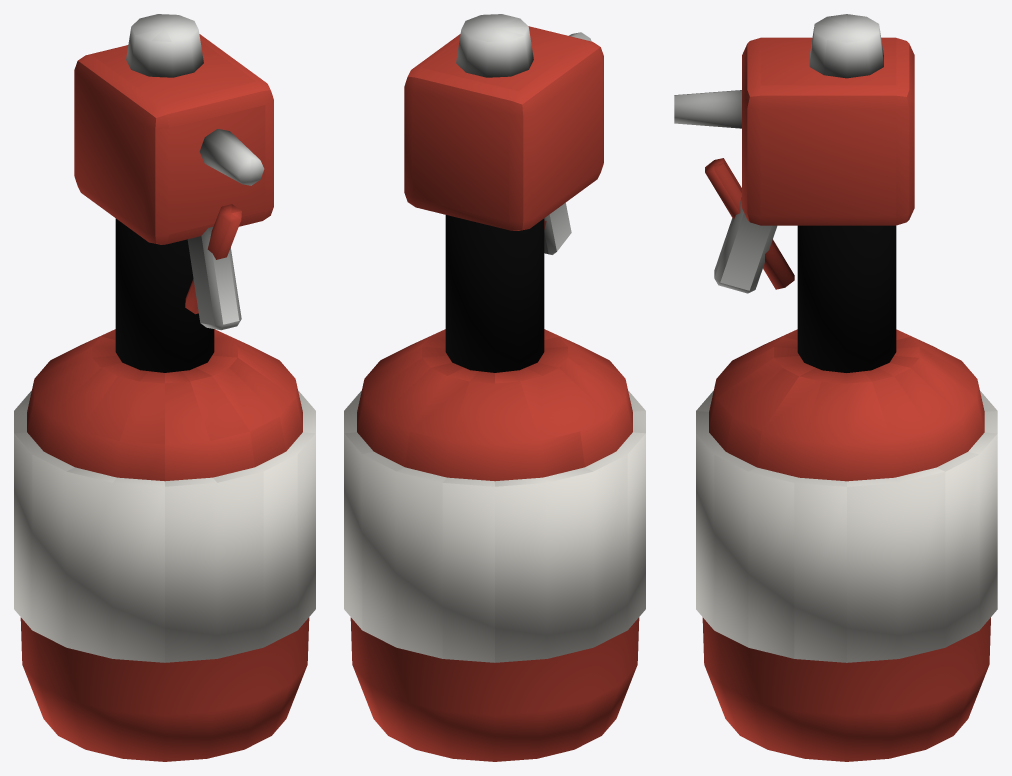
The model's file is spray_bottle_empty.glb.
3 views of the same model, side by side, from view 1: azimuth 30°, elevation 25°; view 2: azimuth 150°, elevation 25°; view 3: azimuth 270°, elevation 25° (orthographic).
Visible parts, largest first — view 1: body, label, head, neck, turret, trigger, nozzle, guard; view 2: body, label, head, neck, turret, trigger; view 3: body, label, head, neck, turret, trigger, nozzle, guard.
Part boxes in pixels (x1,y1,x2,y2): body: (20, 329, 309, 761); label: (14, 390, 315, 662); head: (74, 34, 273, 244); neck: (115, 218, 214, 372); turret: (126, 14, 203, 77); trigger: (187, 227, 241, 330); nozzle: (199, 129, 264, 185); guard: (185, 204, 241, 314); body: (350, 329, 639, 761); label: (344, 390, 645, 662); head: (404, 26, 603, 230); neck: (445, 215, 544, 372); turret: (456, 14, 533, 77); trigger: (544, 202, 571, 254); body: (702, 329, 990, 761); label: (696, 391, 997, 662); head: (742, 37, 914, 225); neck: (797, 225, 896, 372); turret: (809, 14, 883, 78); trigger: (714, 197, 777, 293); nozzle: (674, 90, 741, 128); guard: (705, 158, 794, 289).
Size of the model in its own units: 0.0994 by 0.244 by 0.1049.
